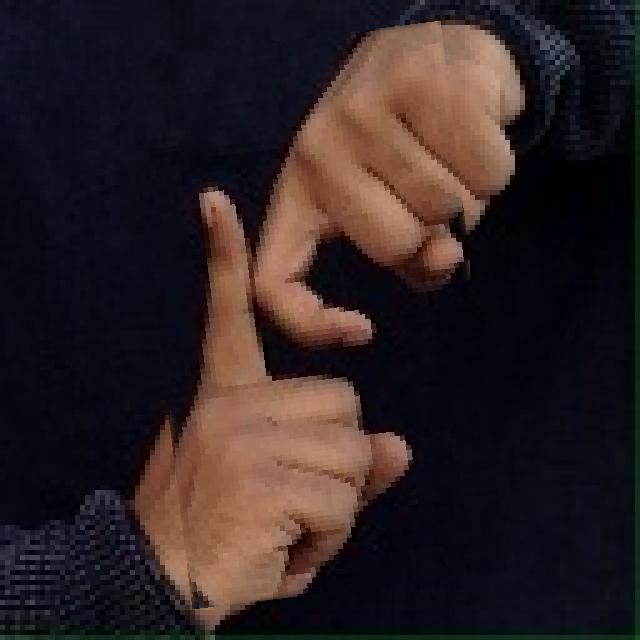K: (142, 29, 492, 600)
